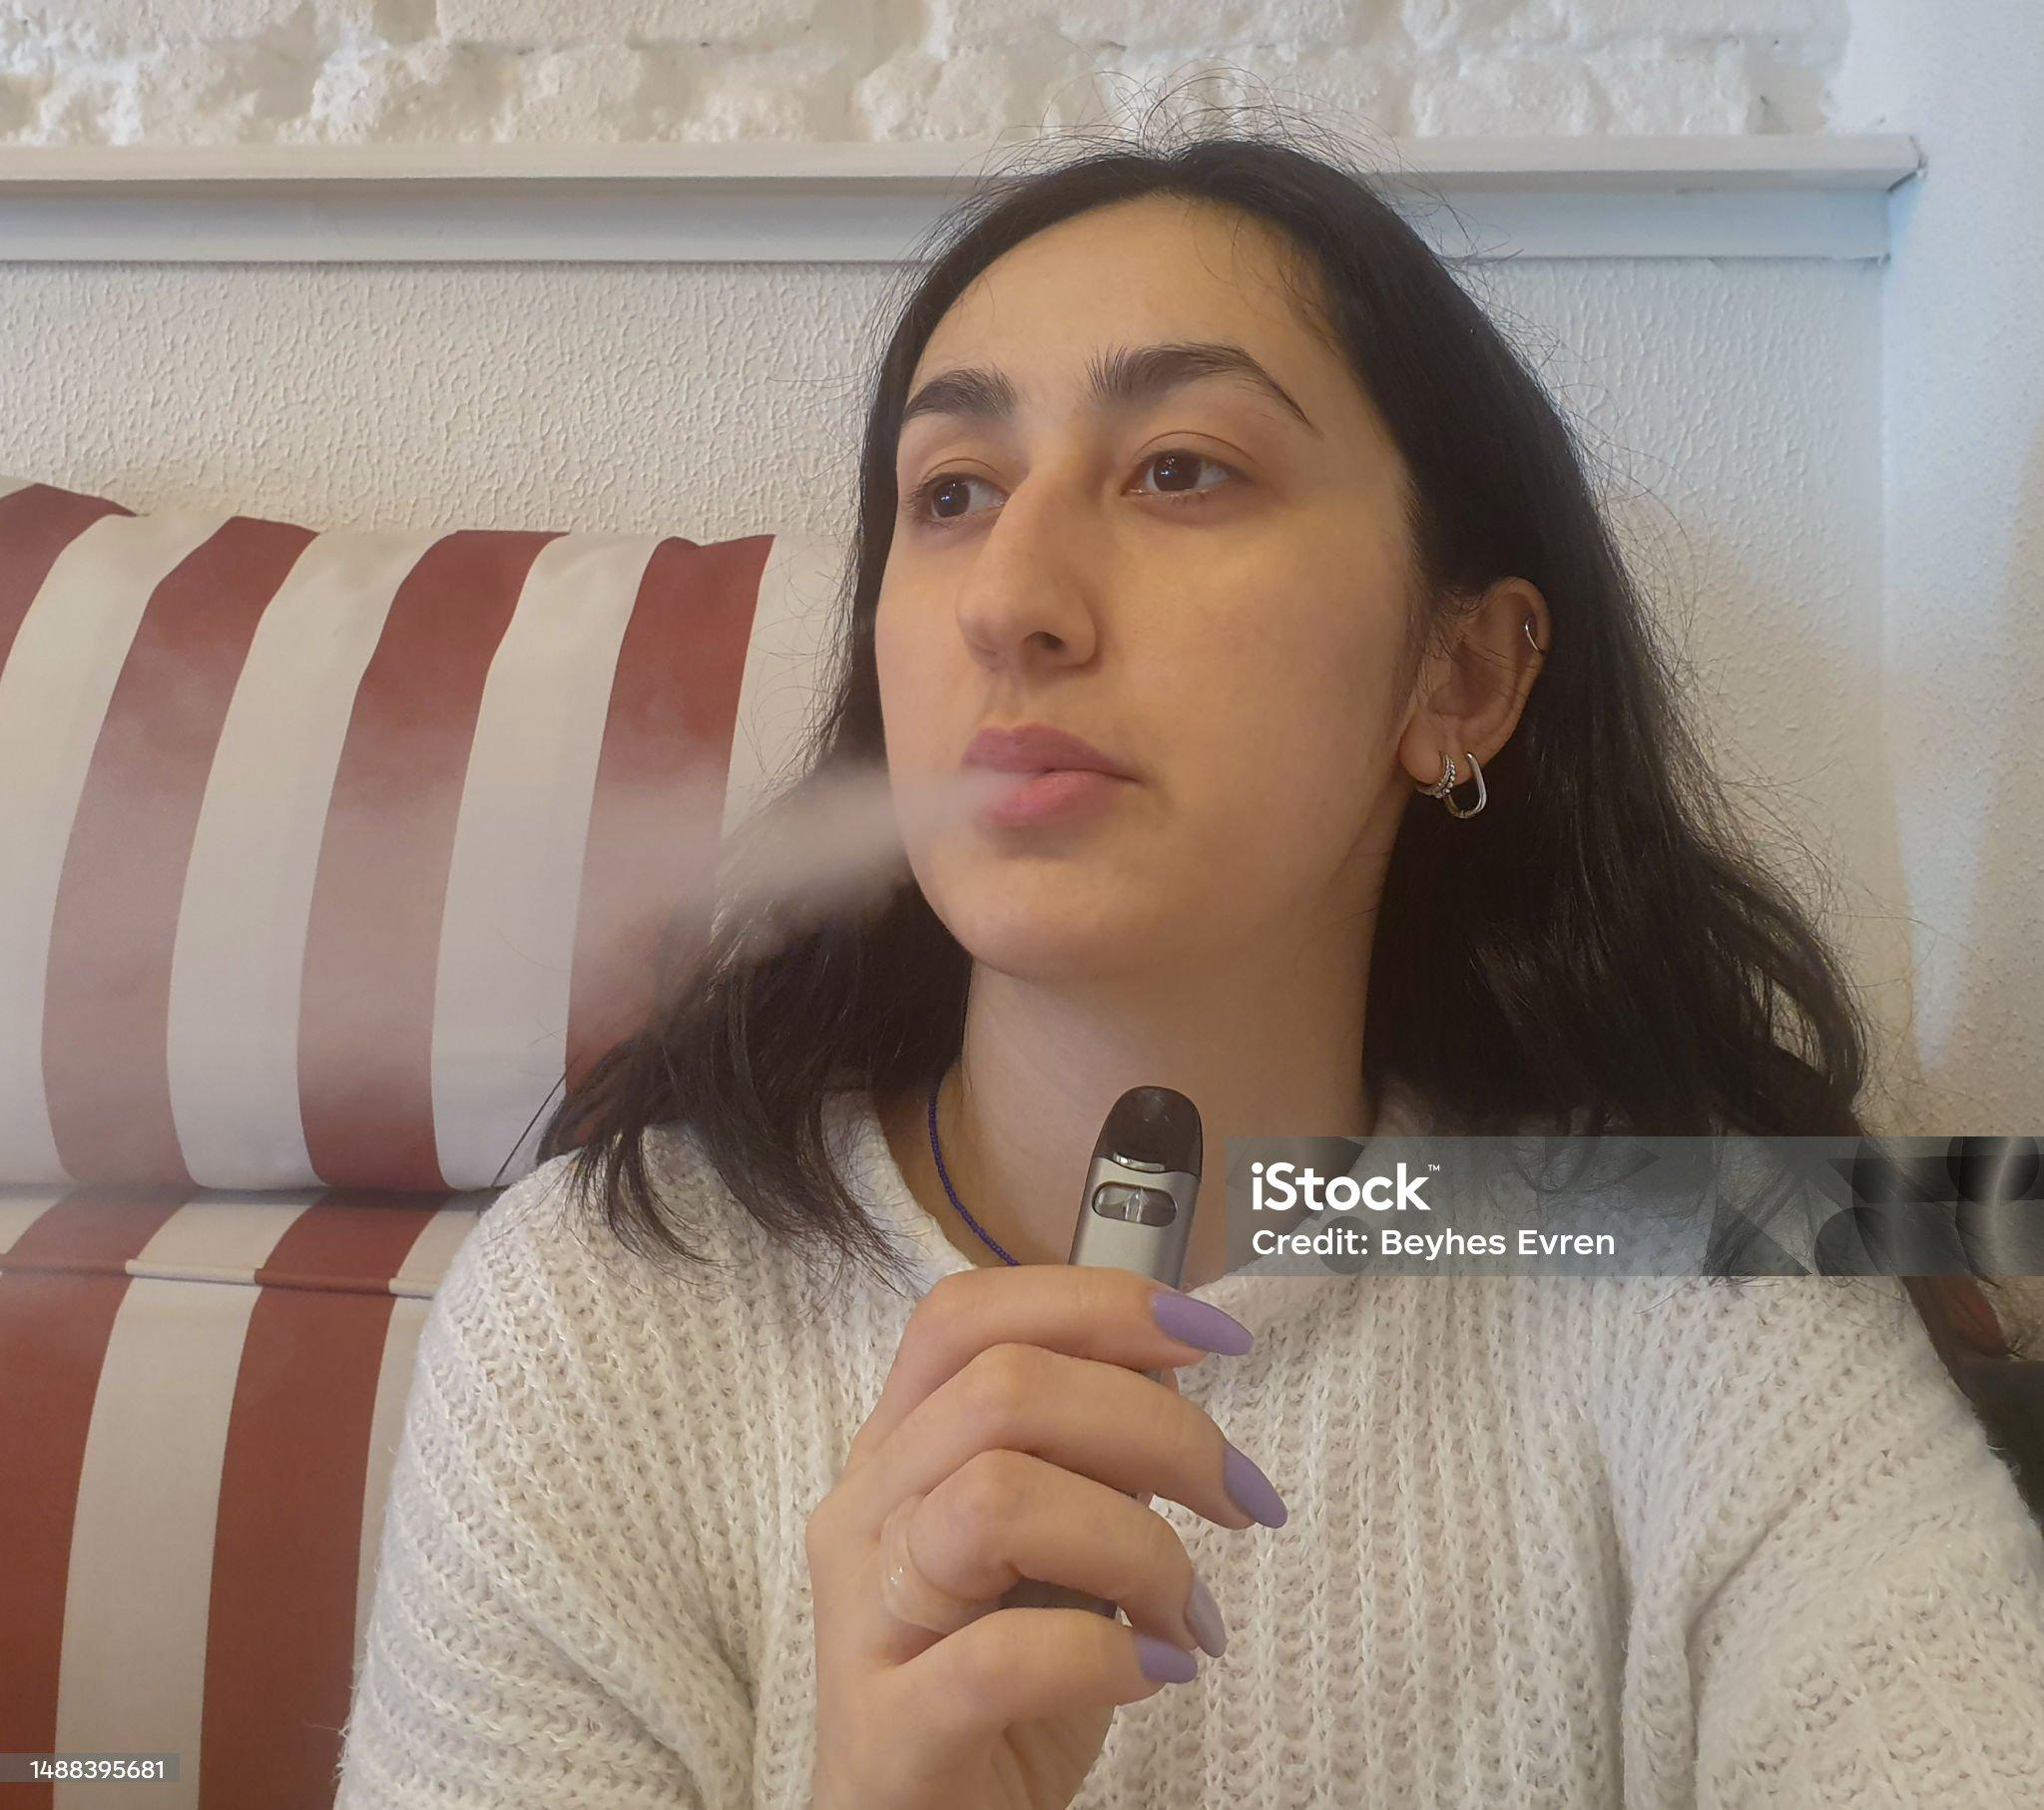Vape: (1069, 1087, 1202, 1288)
